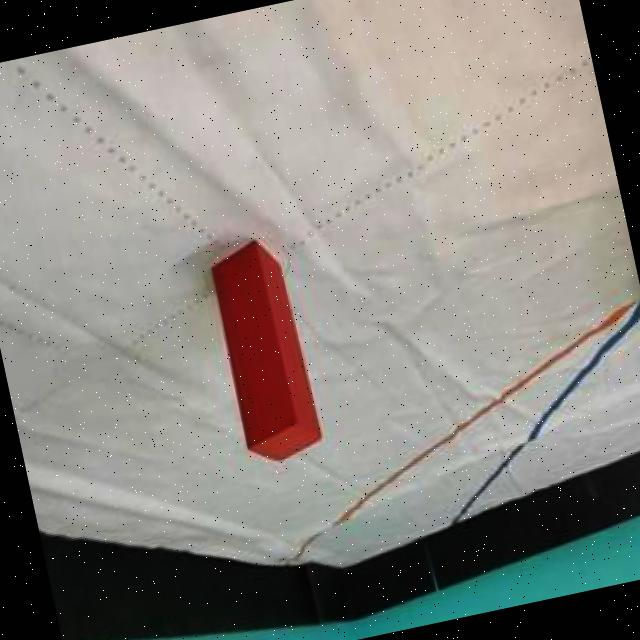redbox: (203, 233, 324, 468)
